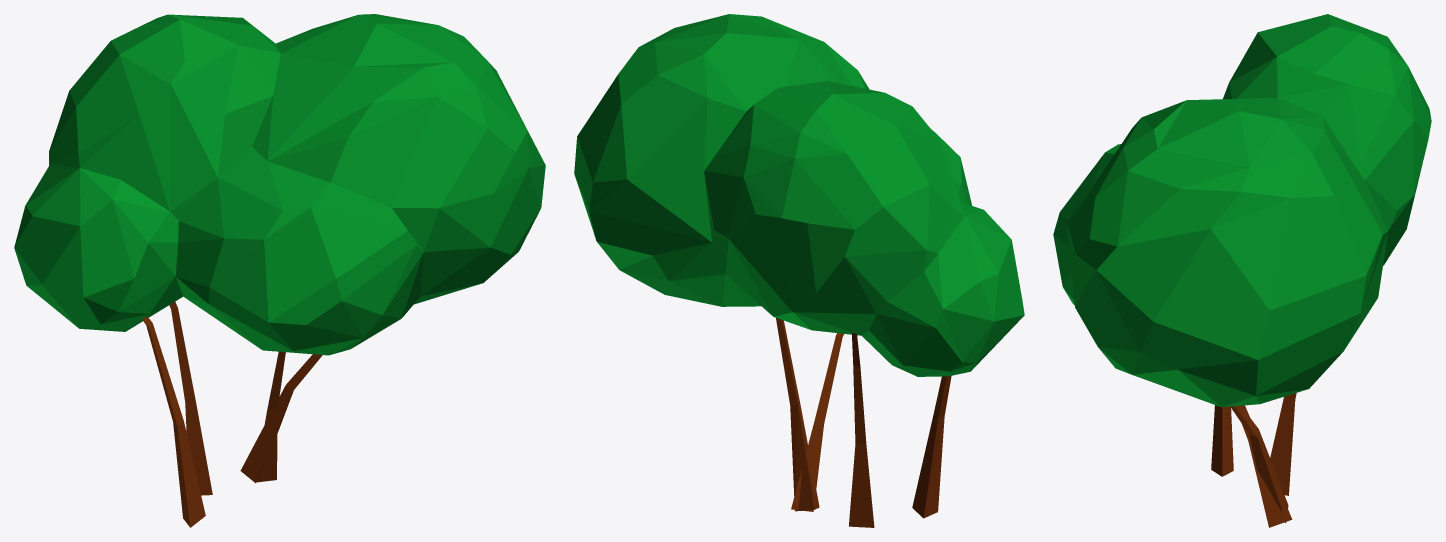
File: TreeBush05.fbx
3 renders of one model, left to right at view 1: azimuth 30°, elevation 25°; view 2: azimuth 150°, elevation 25°; view 3: azimuth 270°, elevation 25°, orthographic. The views are drawn at different scales.
Visible parts, largest first — view 1: Bush05; view 2: Bush05; view 3: Bush05.
Boxes of the visible parts, bbox=[...] form: Bush05: bbox=[14, 14, 545, 527]; Bush05: bbox=[574, 14, 1024, 527]; Bush05: bbox=[1053, 14, 1431, 527].
Size of the model in its own units: 78.33 by 73.49 by 53.8.
